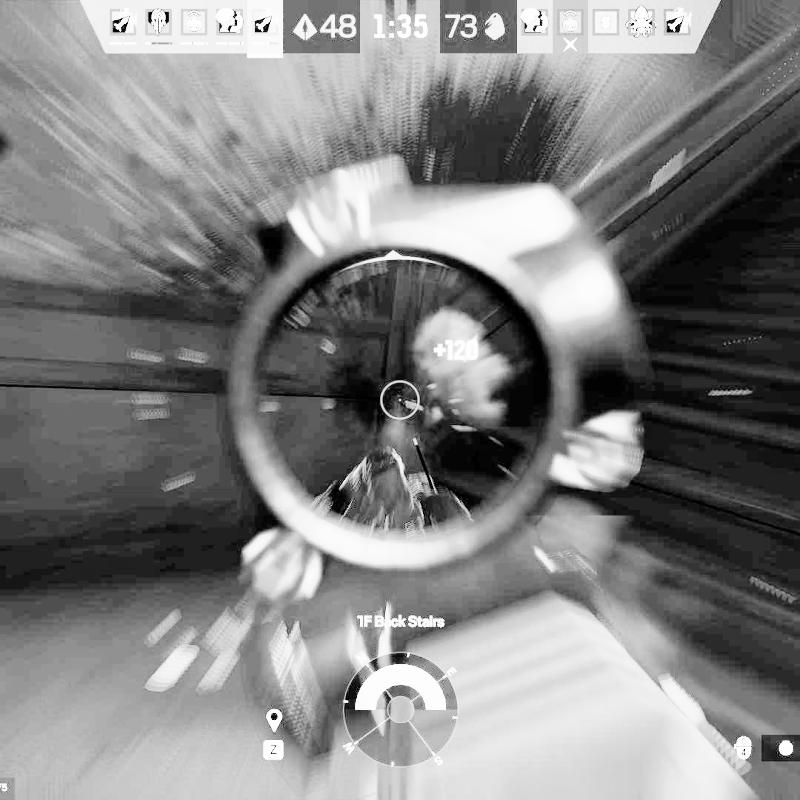Character: (323, 442, 471, 533)
